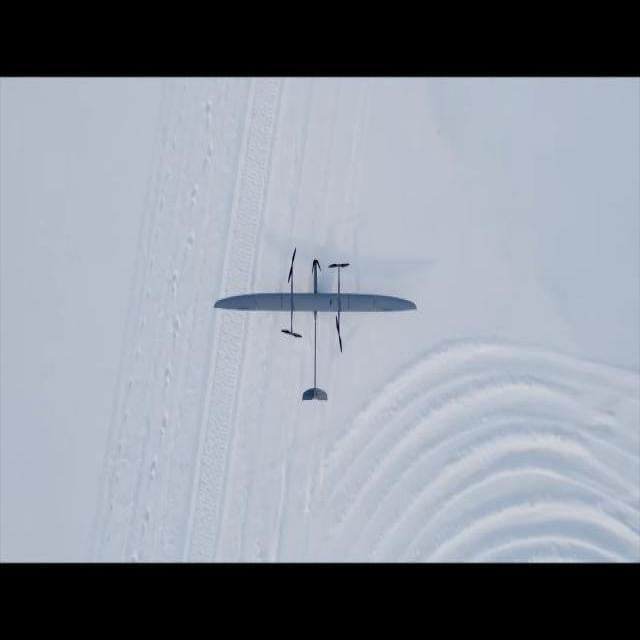UAV: (197, 248, 397, 436)
